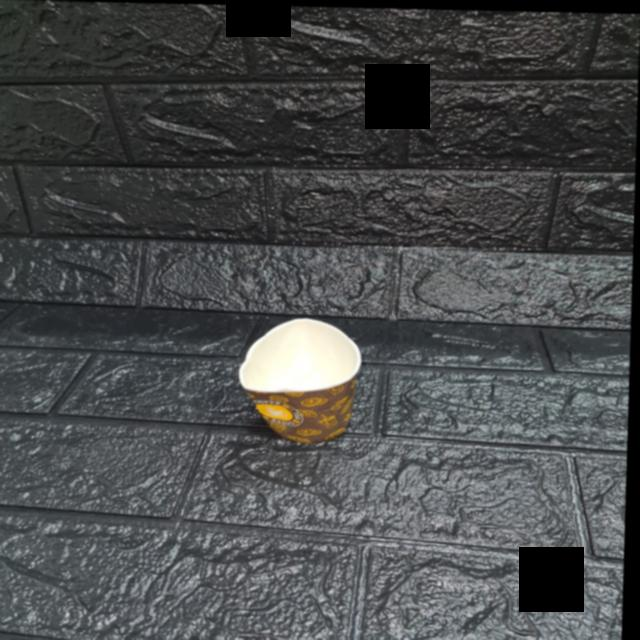cups: (239, 313, 376, 447)
